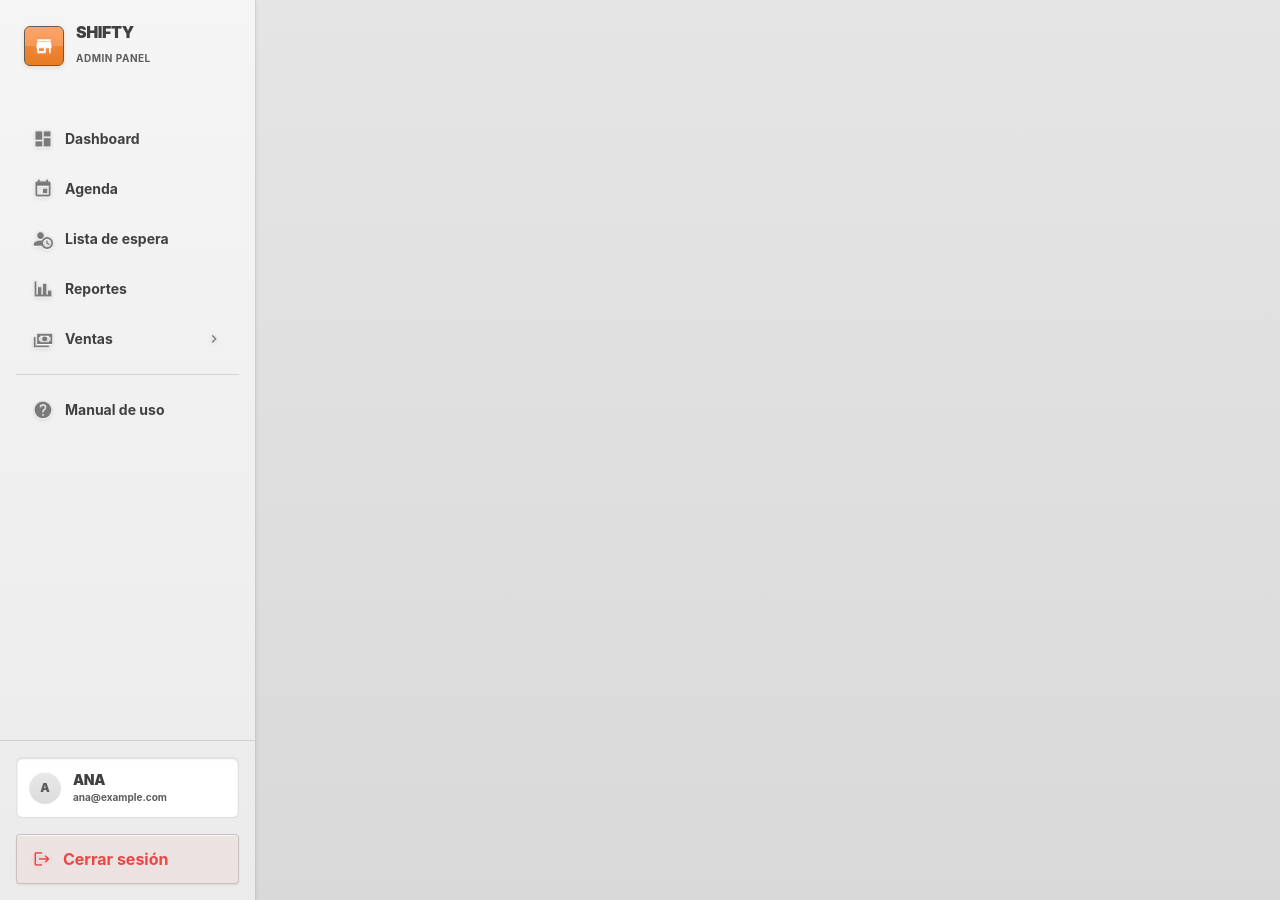
Test: visibilidad de navegación del panel › el profesional conserva reportes y cobros, pero no cobra online ni administra el negocio
The image size is (1280, 900).
Click the button "Ventas" at (128, 339), box [16,316,239,362]
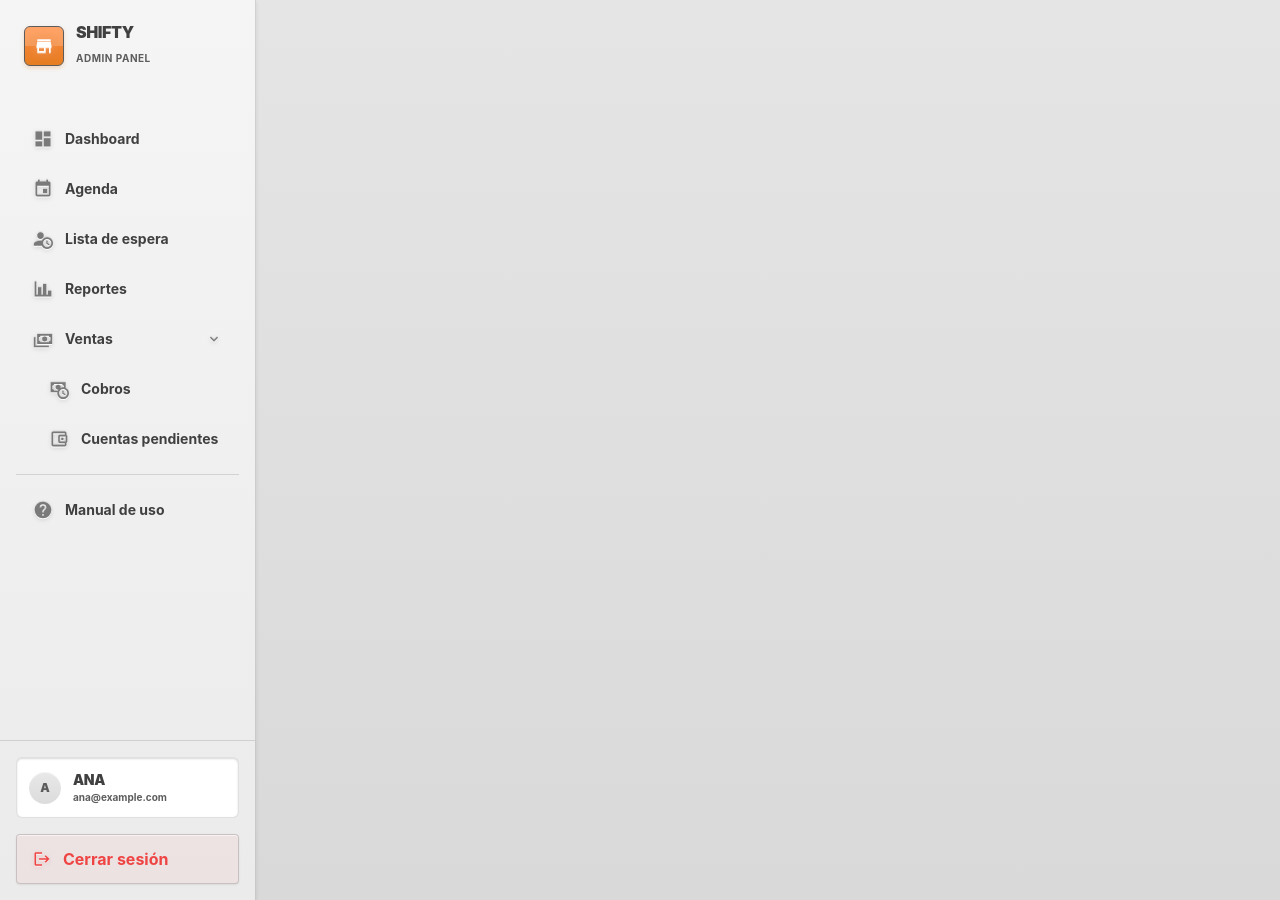
Expected: the link "Reportes" is shown, [33,279,127,299]
Result: the link "Cobros" is shown at [49,379,131,399]
Result: the link "Cuentas pendientes" is shown at [49,429,218,449]
